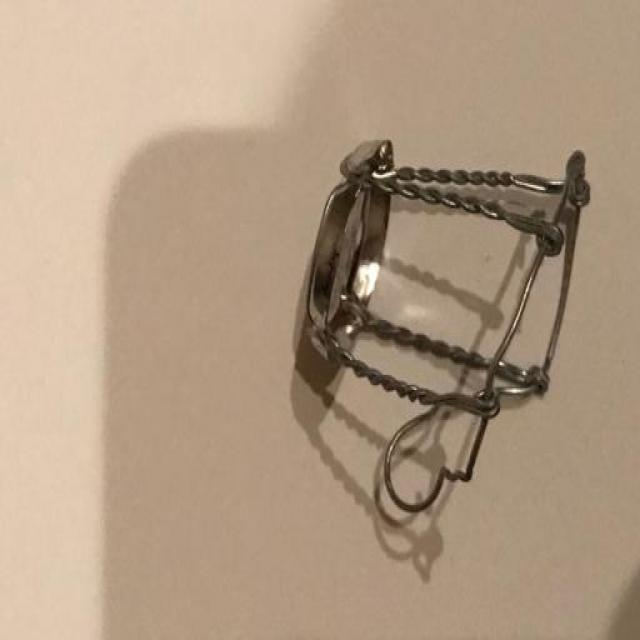others: (289, 130, 601, 537)
